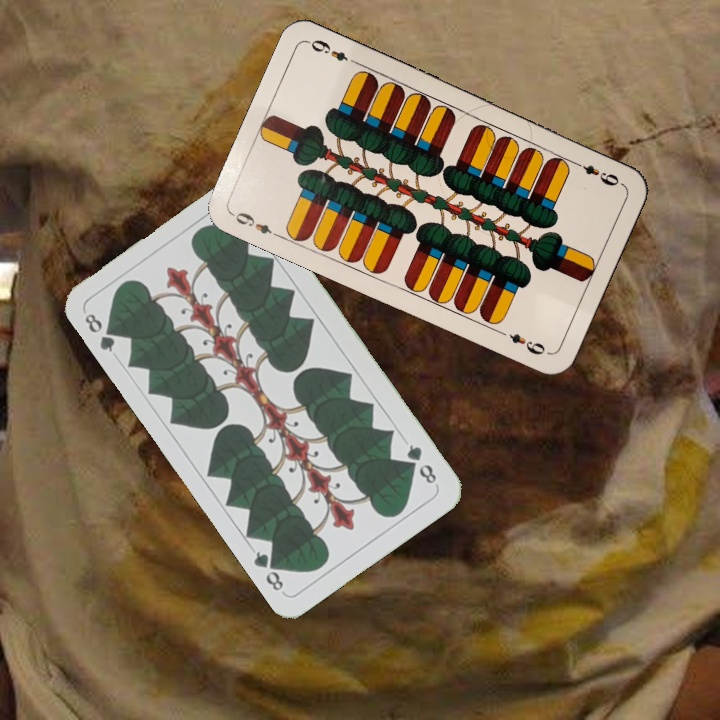E9: (228, 208, 284, 241), (569, 157, 625, 189)
G8: (80, 309, 122, 356), (402, 440, 440, 487)
